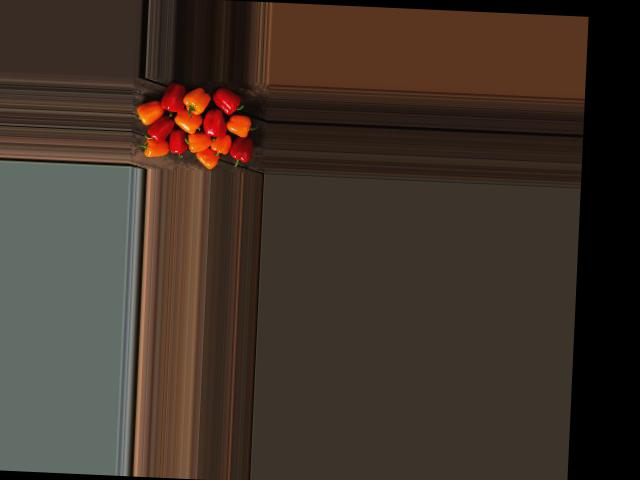bell_pepper: (135, 94, 171, 126)
